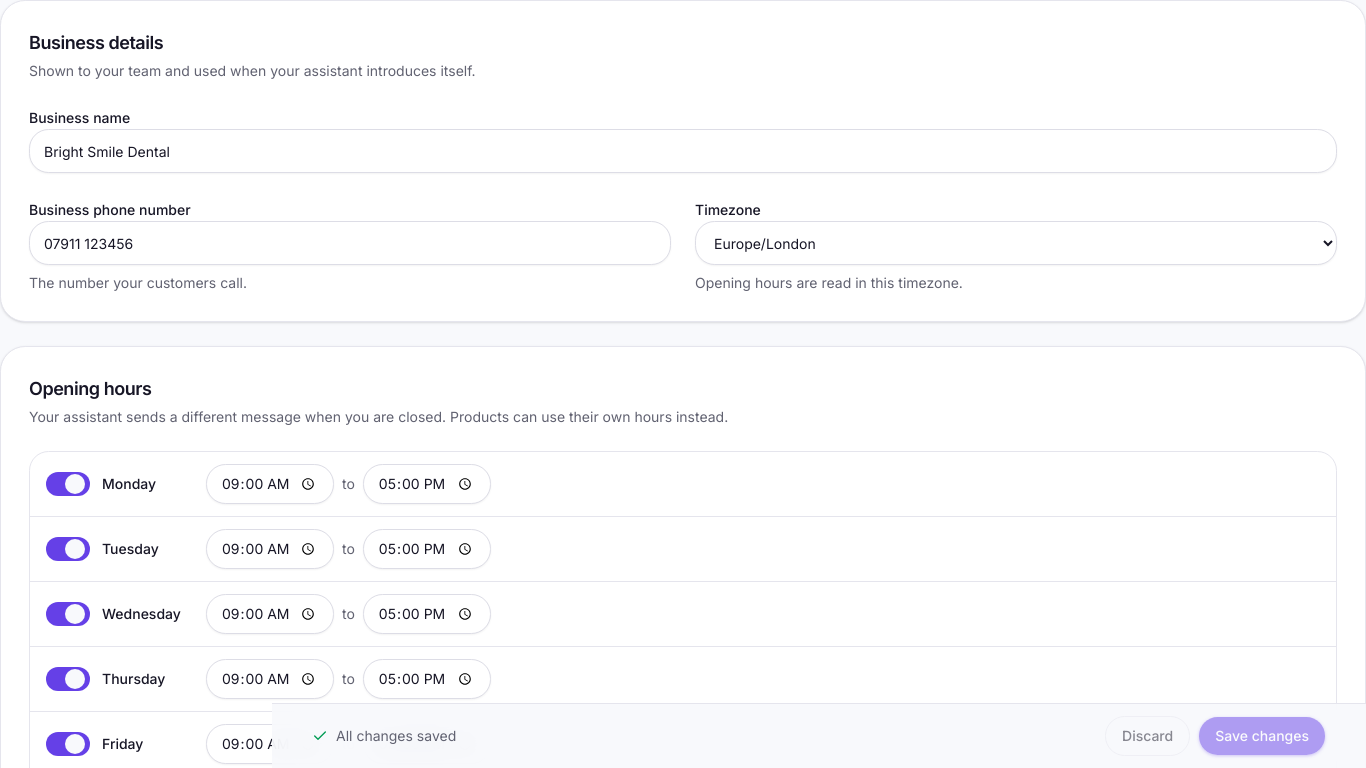
Test case: BusinessSettingsForm › discards edits back to the saved details
The image size is (1366, 768).
Replace the text in the field labelled "Business name" with "Something else" at (683, 151), box [29, 129, 1337, 173]
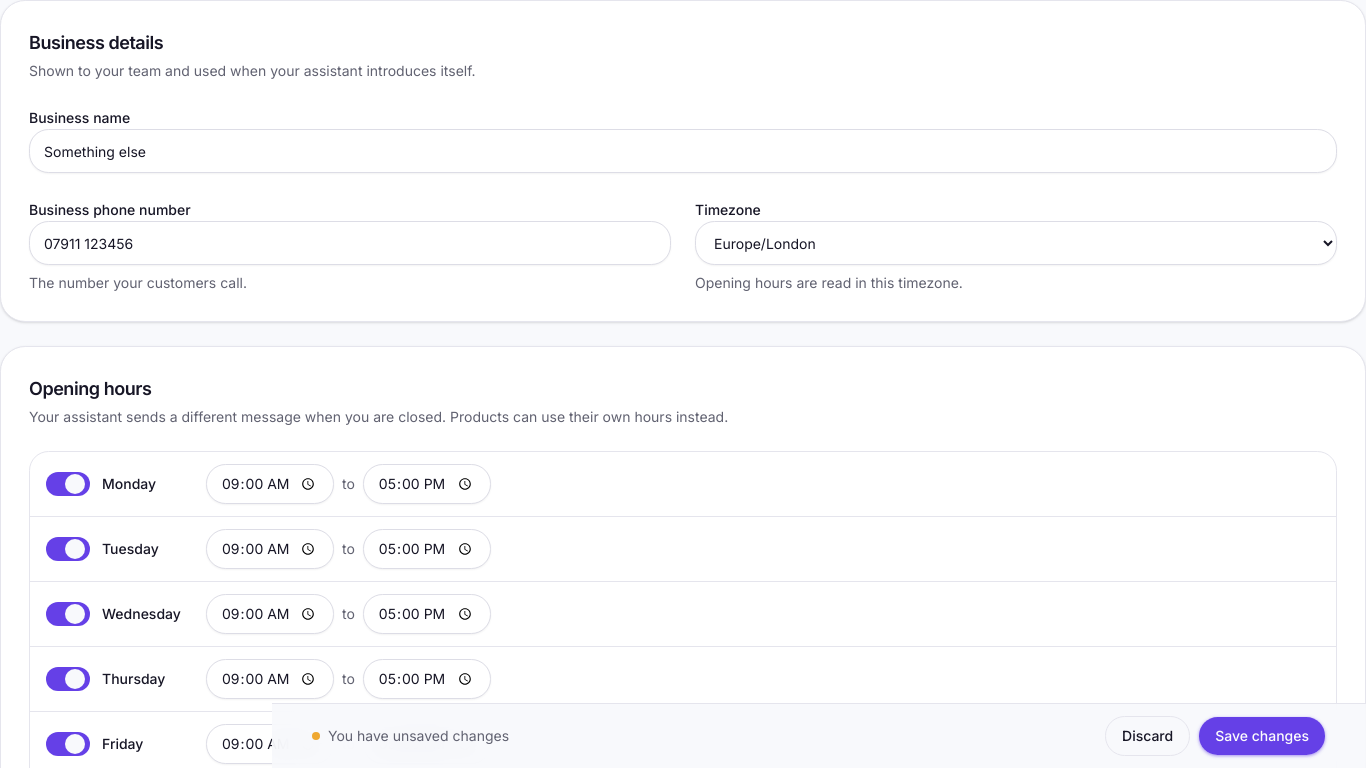
expect the text "You have unsaved changes" is shown: met, box [312, 726, 509, 746]
Click the button "Discard" at (1148, 736), box [1105, 716, 1190, 756]
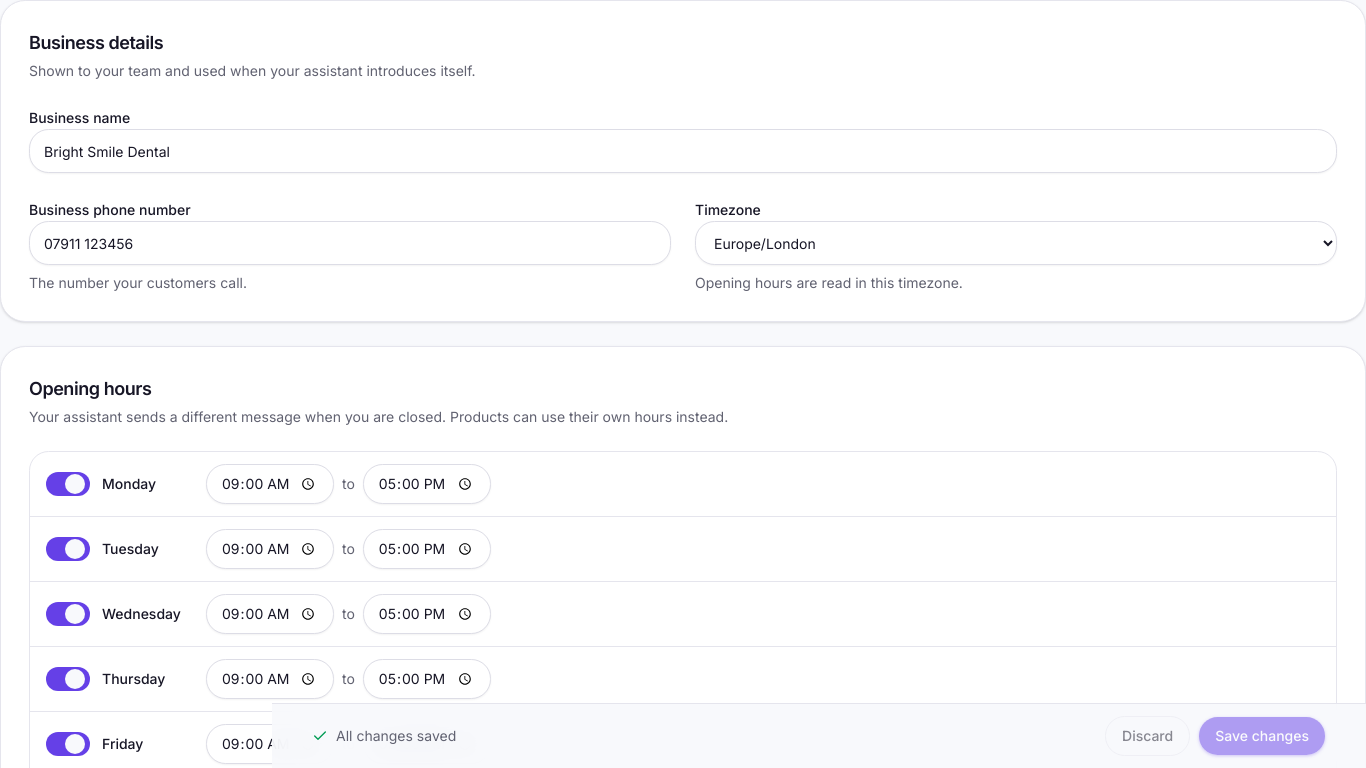
expect the field labelled "Business name" holds "Bright Smile Dental": met, box [29, 129, 1337, 173]
